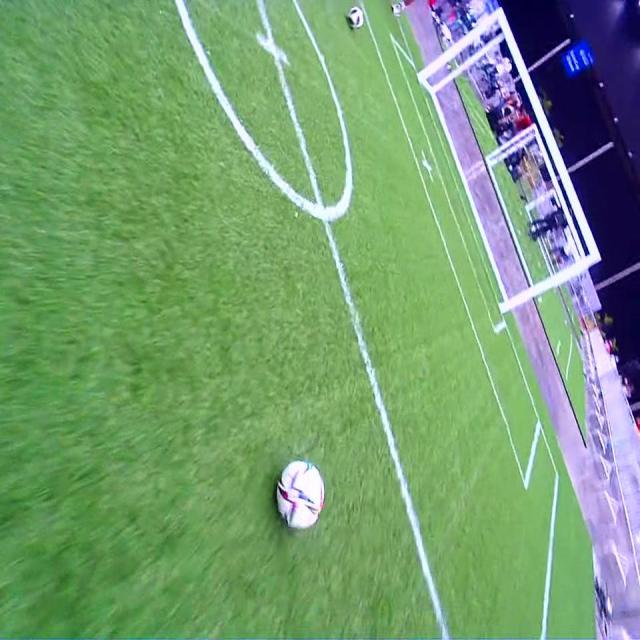ball: (279, 460, 326, 532), (346, 7, 365, 29)
